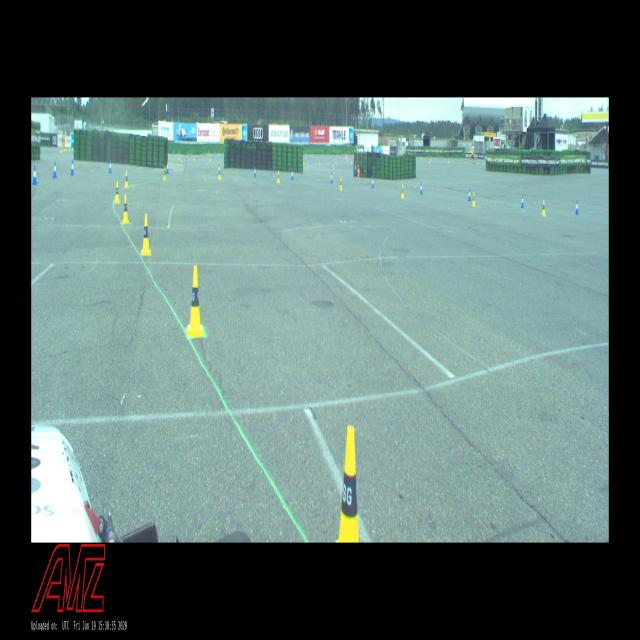blue_cone: (32, 167, 37, 184), (53, 162, 57, 178), (70, 160, 74, 175), (575, 200, 579, 214), (109, 160, 112, 173), (521, 195, 524, 208), (468, 188, 471, 200), (420, 183, 423, 194), (291, 169, 294, 180), (331, 173, 333, 184), (372, 177, 374, 188), (254, 166, 256, 177), (218, 163, 220, 174), (166, 164, 168, 173), (355, 164, 357, 171), (434, 156, 436, 160), (173, 152, 174, 158), (196, 154, 197, 159), (190, 151, 191, 156), (446, 157, 447, 162), (213, 154, 214, 158), (457, 158, 458, 162), (350, 156, 351, 160), (333, 158, 334, 162), (215, 152, 216, 155), (466, 157, 467, 160), (470, 157, 471, 160), (204, 150, 204, 156), (308, 154, 308, 158), (310, 159, 310, 164), (320, 154, 320, 160), (340, 155, 340, 161), (331, 156, 331, 160), (456, 158, 456, 162), (476, 156, 476, 160), (477, 157, 477, 160)
large_orange_cone: (345, 154, 346, 160), (352, 154, 353, 160), (347, 154, 347, 160)
orange_cone: (186, 155, 187, 160), (332, 164, 333, 169), (187, 152, 187, 156)
yellow_cone: (338, 426, 359, 542), (187, 266, 203, 336), (141, 214, 151, 256), (122, 194, 129, 224), (114, 181, 120, 204), (542, 200, 546, 217), (472, 192, 476, 206), (125, 171, 128, 189), (163, 166, 166, 180), (277, 170, 280, 183), (339, 177, 342, 190), (401, 185, 404, 198), (219, 168, 221, 180), (210, 155, 212, 161), (358, 164, 359, 173), (218, 151, 220, 155), (181, 157, 182, 163), (194, 154, 195, 160), (60, 146, 61, 152), (65, 145, 66, 151), (69, 145, 70, 151), (333, 164, 334, 169), (303, 159, 304, 164), (312, 153, 313, 158), (448, 158, 449, 163), (335, 158, 336, 162), (72, 146, 73, 150), (429, 158, 430, 162), (322, 151, 323, 155), (337, 151, 338, 155), (420, 155, 421, 159), (431, 156, 432, 160), (444, 158, 445, 162), (351, 160, 352, 163), (308, 162, 308, 167), (320, 160, 320, 164), (180, 154, 180, 159), (189, 151, 189, 156), (62, 145, 62, 151), (64, 145, 64, 151), (324, 153, 324, 158), (478, 159, 478, 164), (484, 160, 484, 165), (208, 150, 208, 154), (192, 151, 192, 155), (209, 150, 209, 154), (210, 154, 210, 160), (306, 151, 306, 155), (349, 152, 349, 155), (449, 158, 449, 162), (460, 158, 460, 162), (466, 160, 466, 163)
